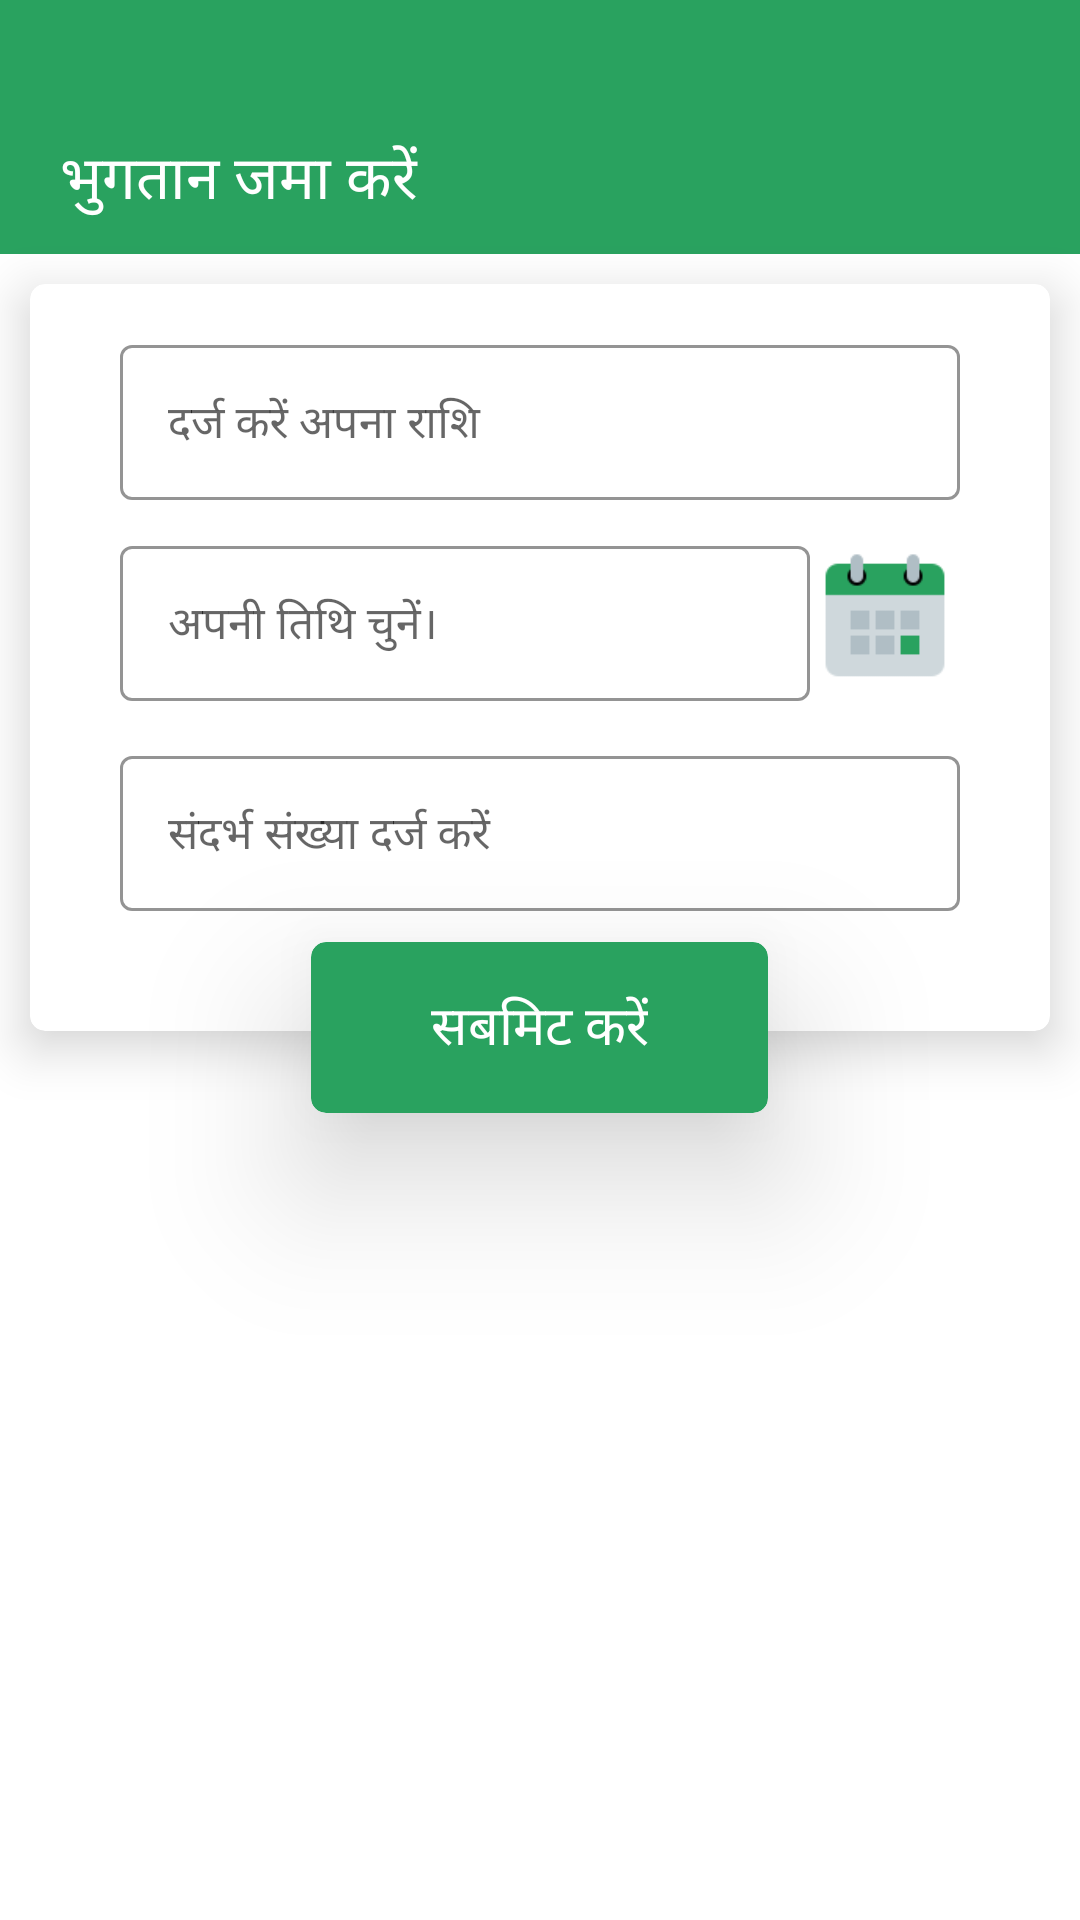

Icons on this 1080*1920 Android screen, each with the point to tap as (x,y):
calendar: (885,615)
